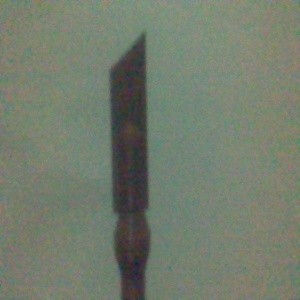cutter: (108, 29, 152, 300)
